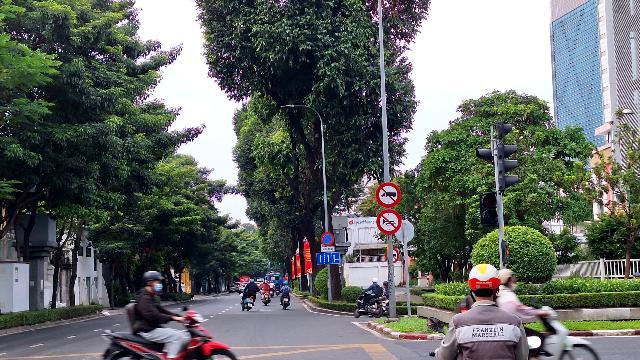cam-bop-coi: (376, 209, 402, 235)
cam-do-xe: (320, 232, 335, 246)
